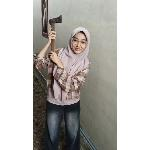Kapak: (48, 13, 64, 57)
